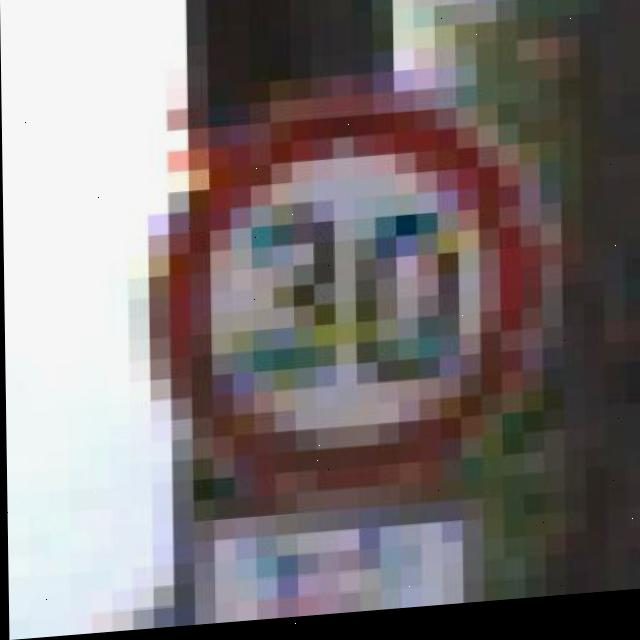Speed limit 30: (154, 61, 561, 533)
